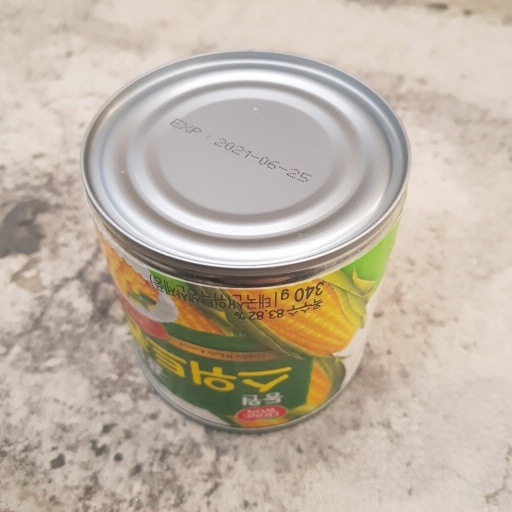Metal_1: (77, 52, 414, 437)
